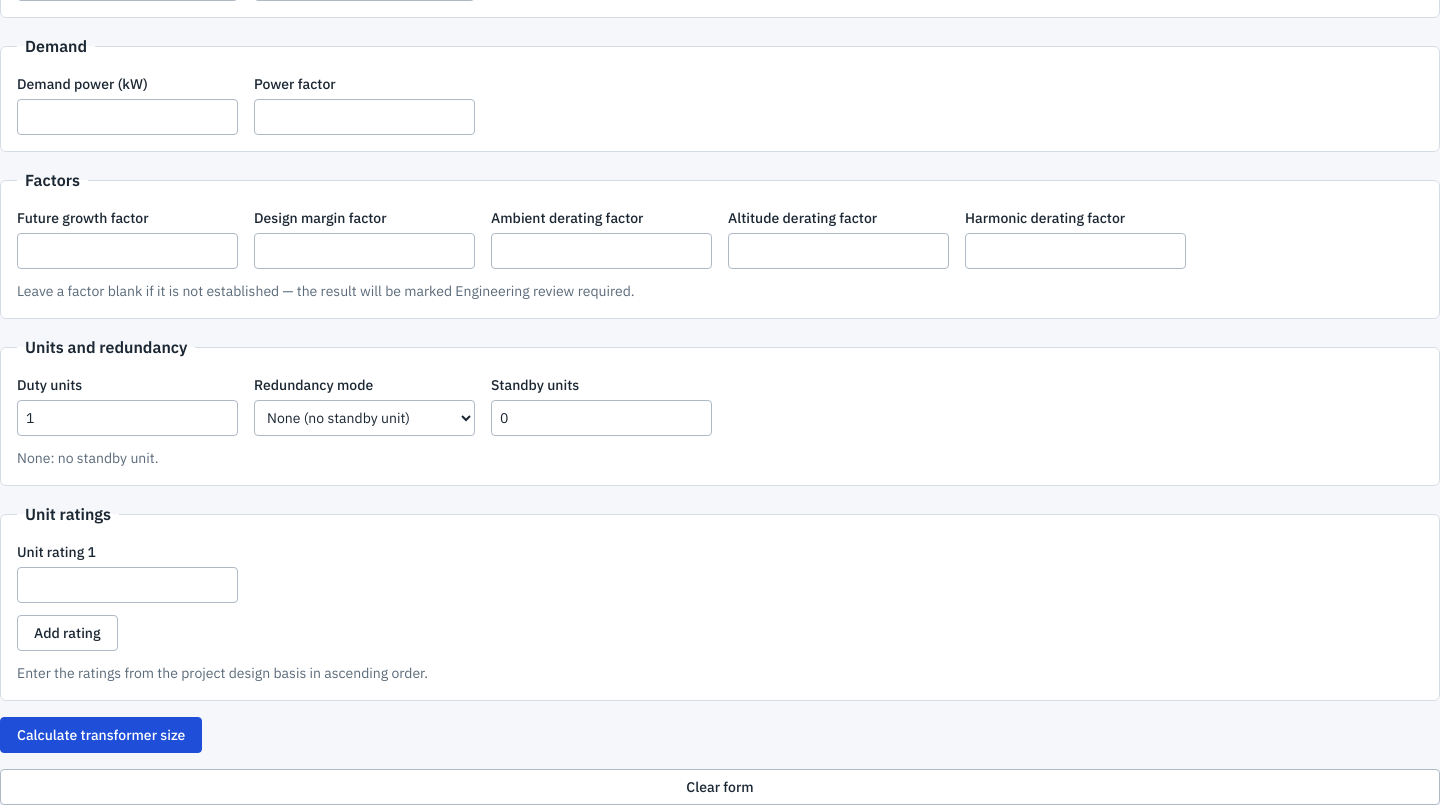
Test: TransformerStudyForm › adds a rating entry, makes both removable, and moves the cursor to it
(page scrolled)
Click the button "Add rating": (67,633) [17,615,118,651]
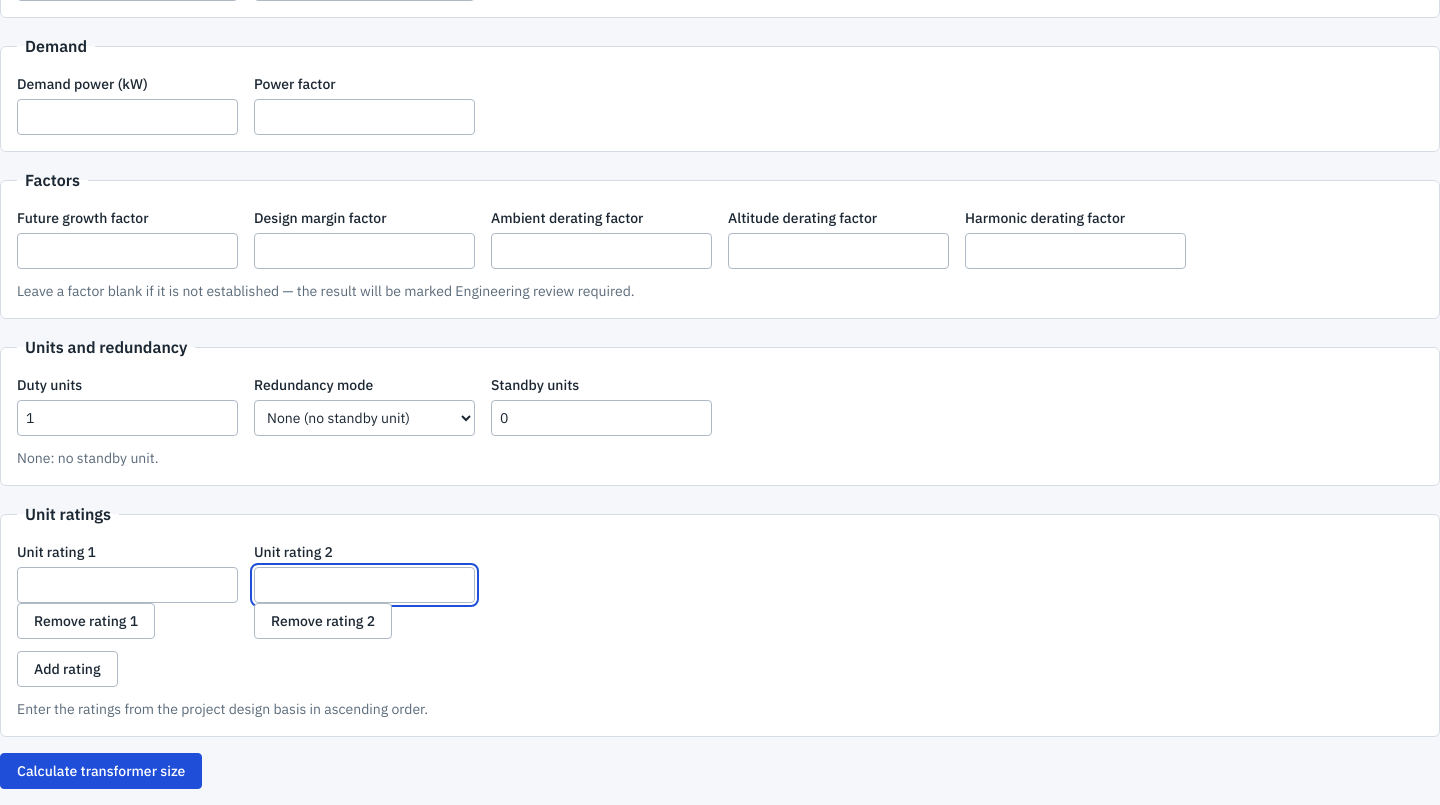
Result: the button "Remove rating 1" is shown at [17,603,155,639]
